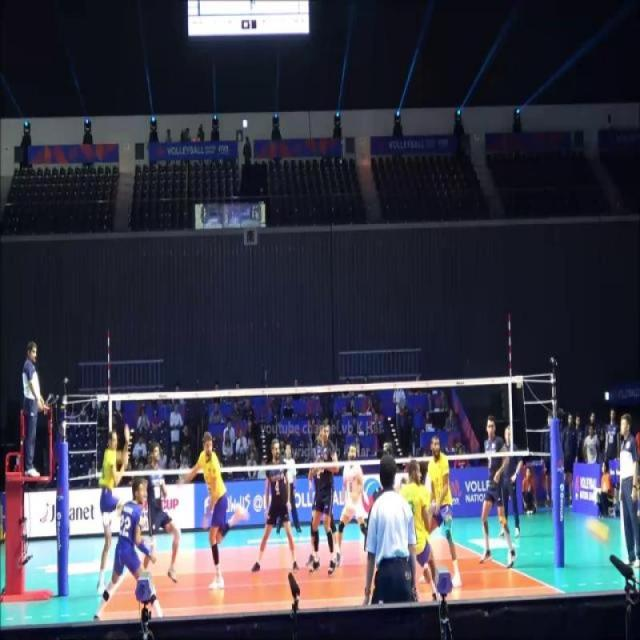volleyball: (586, 518, 610, 544)
